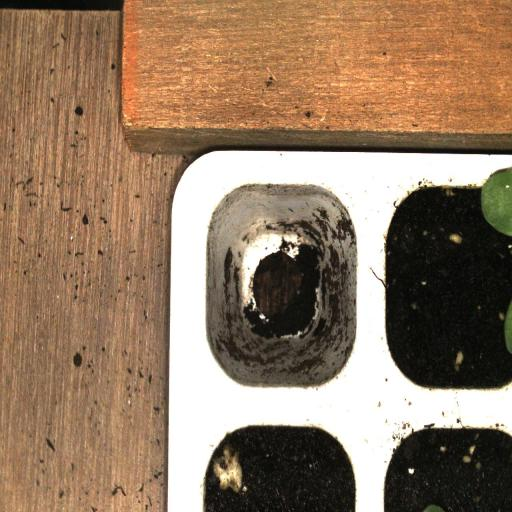noseedling: (193, 170, 368, 400)
